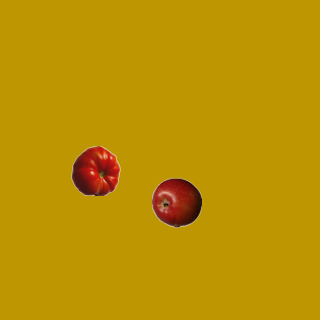Apple Braeburn: (151, 177, 201, 227)
Tomato 3: (70, 145, 120, 195)
